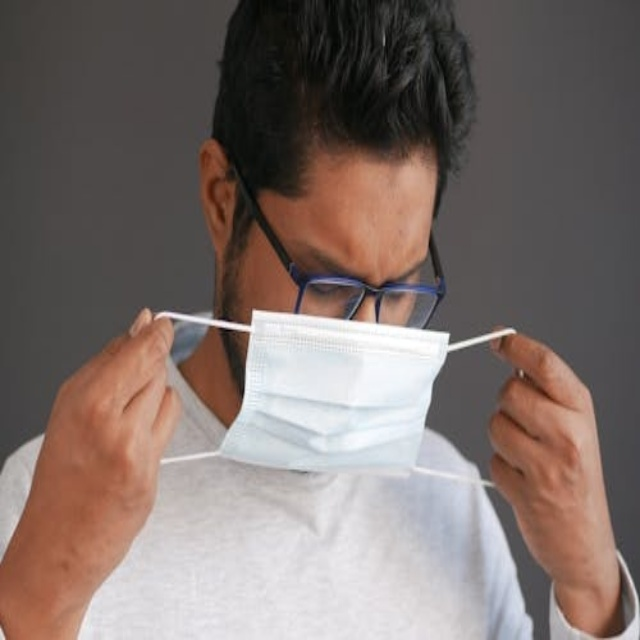Gafas: (229, 155, 446, 329)
Mascara: (213, 308, 450, 475)
Sin_guantes: (19, 299, 186, 586), (483, 332, 616, 595)
